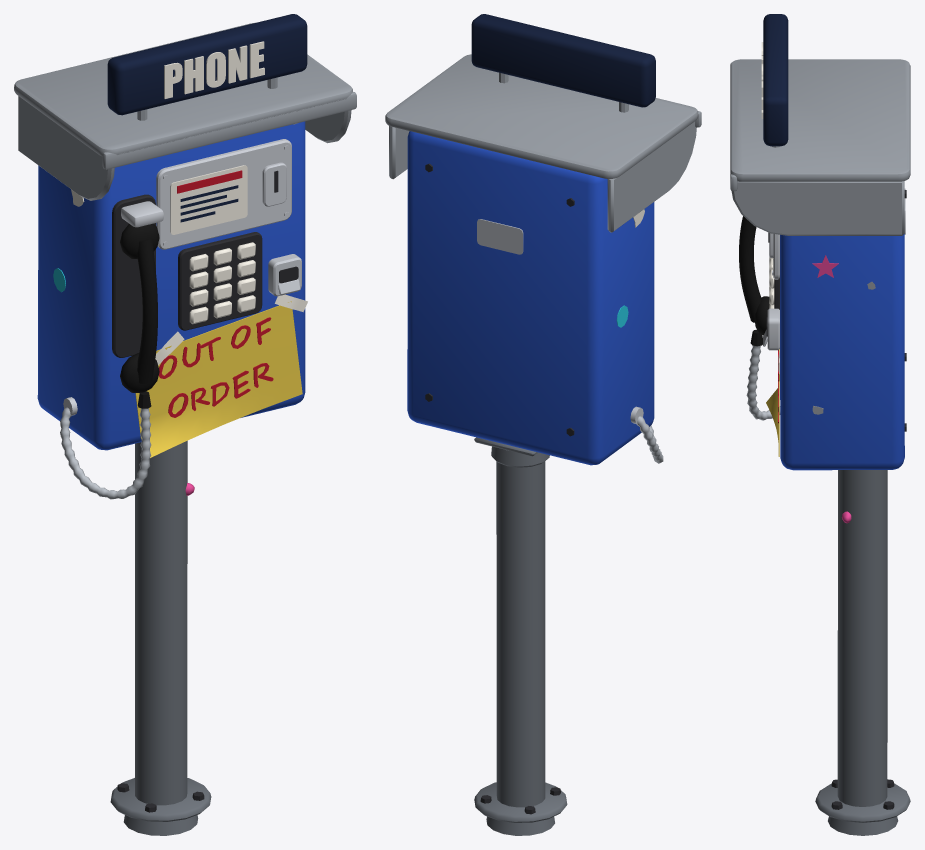
The model's file is payphone.glb.
3 views of the same model, side by side, from view 1: azimuth 30°, elevation 25°; view 2: azimuth 150°, elevation 25°; view 3: azimuth 270°, elevation 25° (orthographic). The views are drawn at different scales.
Visible parts, largest first — view 1: Payphone_Body, Payphone_OutOfOrder, Payphone_Handset; view 2: Payphone_Body; view 3: Payphone_Body, Payphone_Handset, Payphone_OutOfOrder.
Part boxes in pixels (box(x1,y1,x2,y2)): Payphone_Body: box(14, 14, 356, 835); Payphone_OutOfOrder: box(135, 294, 307, 457); Payphone_Handset: box(60, 223, 159, 499); Payphone_Body: box(385, 14, 701, 835); Payphone_Body: box(730, 14, 910, 835); Payphone_Handset: box(739, 216, 780, 420); Payphone_OutOfOrder: box(766, 349, 779, 456).
Size of the model in its own units: 0.66 by 2.04 by 0.435.
